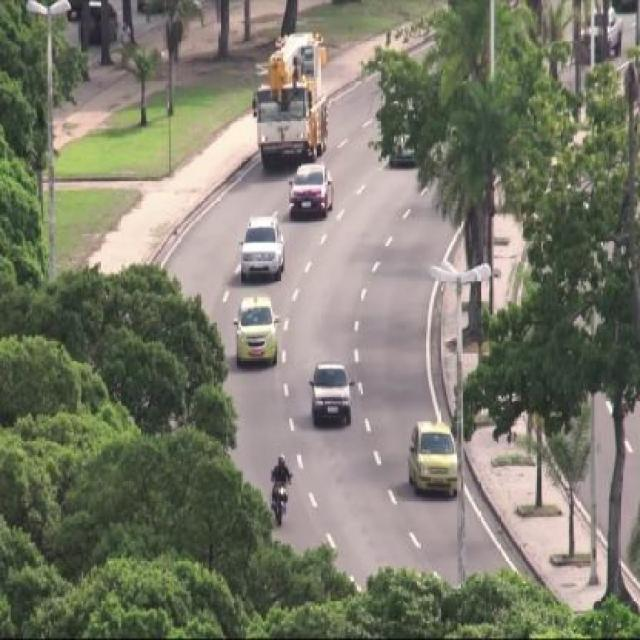Mobile Crane: (253, 32, 329, 165)
